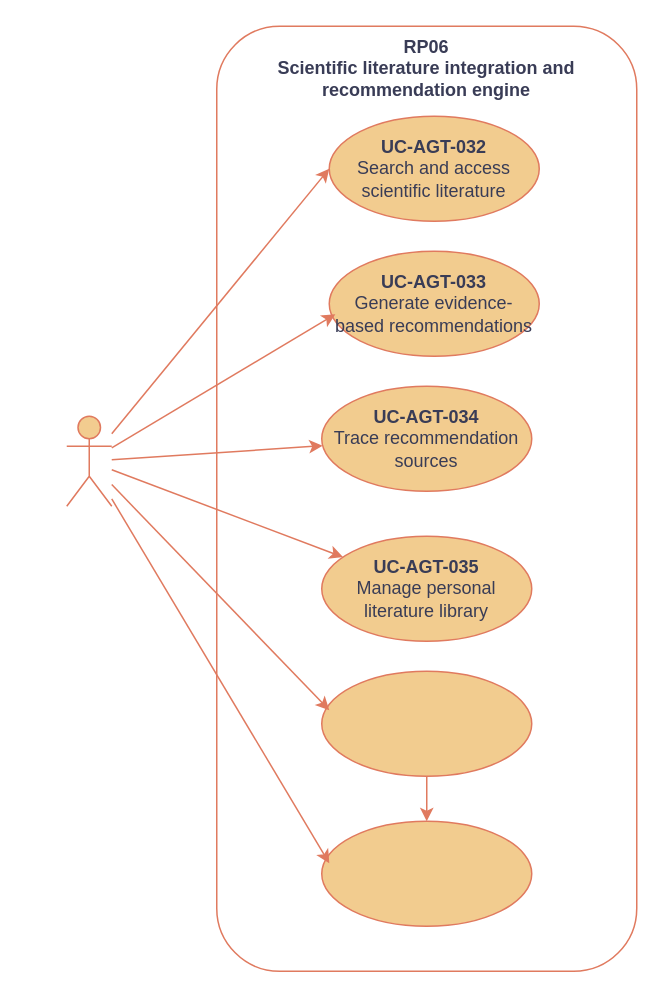
Image size: 663x998. Some labels were removed from this diagram. The centre of each missing label's shape, as x and y in pixels:
"Registered user" belongs at [88,460].
"UC-AGT-036 Analyze evidence quality and consensus" belongs at [426,723].
"UC-AGT-037 Compare and monitor research" belongs at [426,873].
